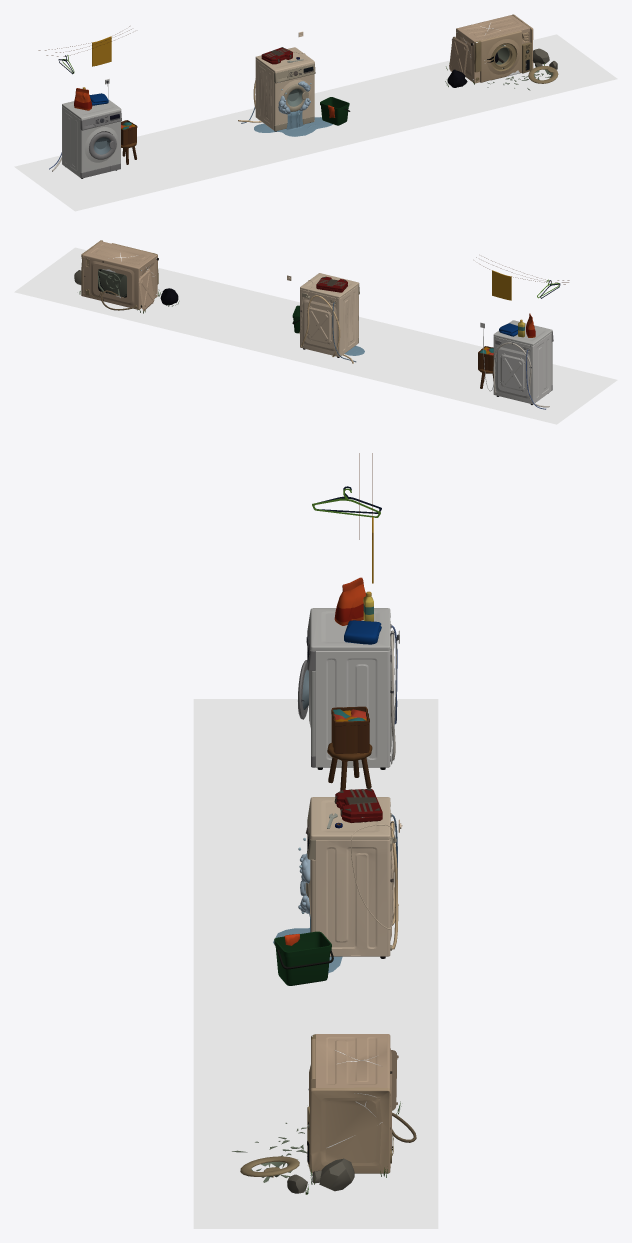
The model's file is Washing Machine XYZ School.fbx.
3 renders of one model, top to bottom at view 1: azimuth 30°, elevation 25°; view 2: azimuth 150°, elevation 25°; view 3: azimuth 270°, elevation 25°, orthographic. The views are drawn at different scales.
Visible parts, largest first — view 1: Plane001, 03_Washing-Machine, 01_Washing-machine, 02_Washing-machine, 02_Overflow, 01_Clothes-dryer, 02_Props-group_02, 01_Door, 03_Backdoor, 01_Props-group_02, 01_Props-group_01, 02_Door (+4 smaller); view 2: Plane001, 02_Washing-machine, 01_Washing-machine, 03_Washing-Machine, 01_Clothes-dryer, 03_Drum, 01_Props-group_01, 01_Props-group_02, 03_Backdoor, 02_Hoses, 02_Props-group_01, 01_Hoses; view 3: Plane001, 02_Washing-machine, 03_Washing-Machine, 01_Washing-machine, 01_Props-group_02, 02_Props-group_02, 01_Props-group_01, 02_Props-group_01, 03_Rocks.
Boxes of the visible parts, x1,y1,x2,y2 form: Plane001: (14, 34, 617, 211); 03_Washing-Machine: (456, 14, 533, 83); 01_Washing-machine: (62, 99, 121, 178); 02_Washing-machine: (255, 47, 315, 131); 02_Overflow: (254, 81, 332, 136); 01_Clothes-dryer: (38, 26, 131, 74); 02_Props-group_02: (320, 97, 350, 125); 01_Door: (89, 132, 116, 159); 03_Backdoor: (449, 36, 468, 75); 01_Props-group_02: (121, 120, 137, 164); 01_Props-group_01: (74, 87, 108, 110); 02_Door: (283, 84, 308, 111); Plane001: (14, 247, 617, 424); 02_Washing-machine: (300, 273, 359, 357); 01_Washing-machine: (493, 320, 553, 404); 03_Washing-Machine: (81, 240, 158, 309); 01_Clothes-dryer: (476, 257, 569, 300); 03_Drum: (98, 269, 126, 297); 01_Props-group_01: (499, 313, 535, 337); 01_Props-group_02: (478, 346, 493, 388); 03_Backdoor: (138, 269, 154, 311); 02_Hoses: (301, 295, 356, 363); 02_Props-group_01: (316, 276, 347, 292); 01_Hoses: (493, 342, 549, 409); Plane001: (193, 699, 438, 1228); 02_Washing-machine: (306, 797, 394, 958); 03_Washing-Machine: (307, 1034, 393, 1173); 01_Washing-machine: (306, 608, 394, 769); 01_Props-group_02: (327, 706, 372, 790); 02_Props-group_02: (274, 931, 333, 985); 01_Props-group_01: (334, 577, 381, 644); 02_Props-group_01: (327, 788, 382, 828); 03_Rocks: (287, 1158, 354, 1193).
Size of the model in its own units: 798 by 181 by 156.
